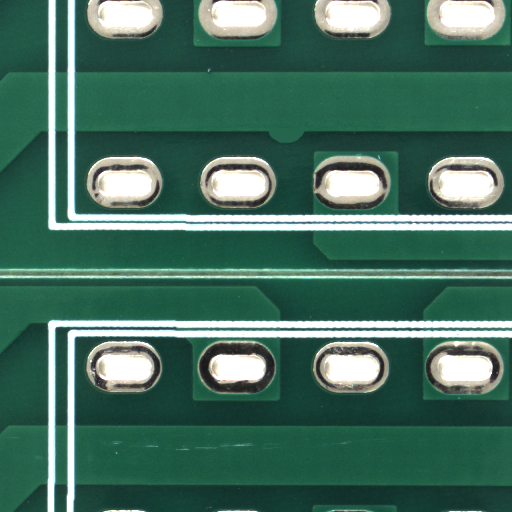Spur: (284, 135, 326, 150)
